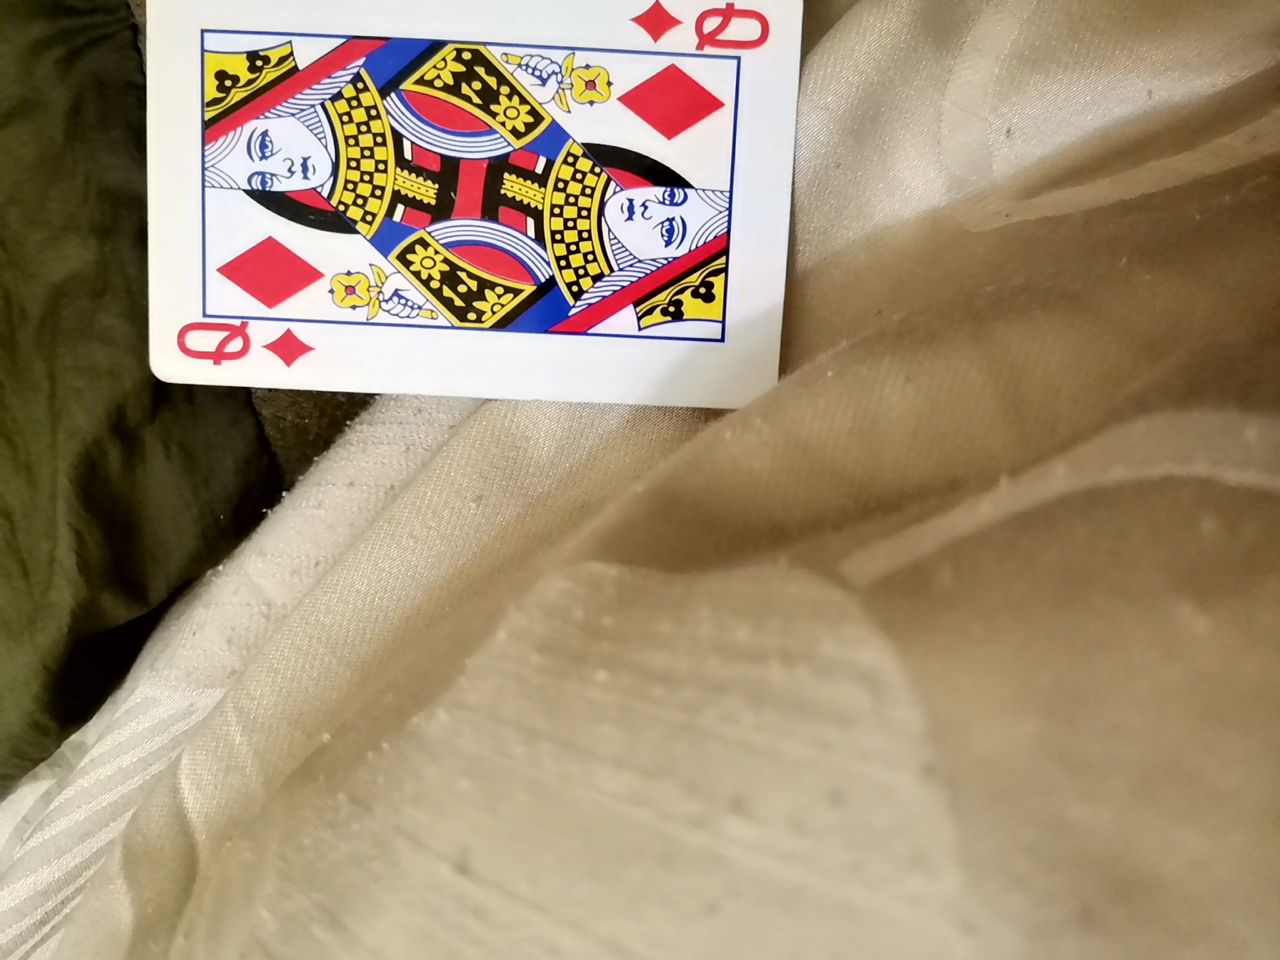fk q: (117, 10, 796, 451)
